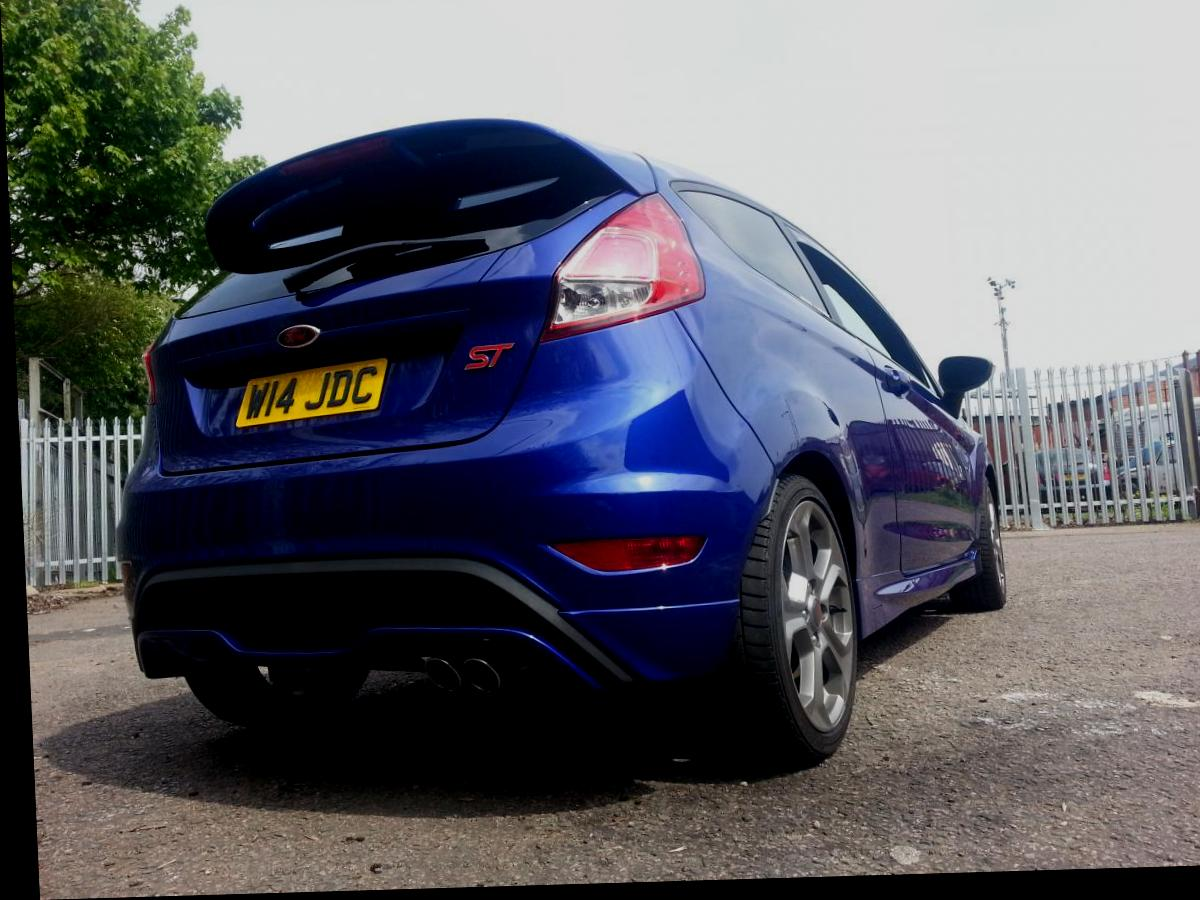License_Plate: (228, 350, 398, 432)
